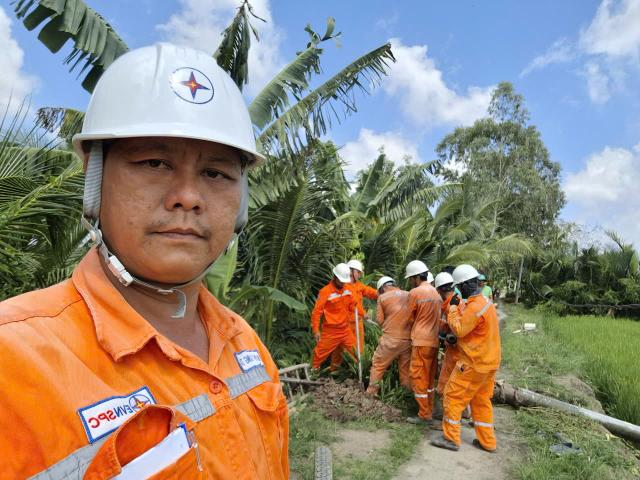helmet: (66, 38, 268, 166), (447, 264, 479, 286), (400, 258, 426, 281), (342, 250, 363, 272), (333, 263, 353, 286), (371, 276, 392, 292), (431, 273, 453, 288), (421, 270, 434, 284), (476, 271, 486, 281)
shoes: (426, 430, 462, 453), (468, 435, 500, 454), (405, 414, 436, 428)
